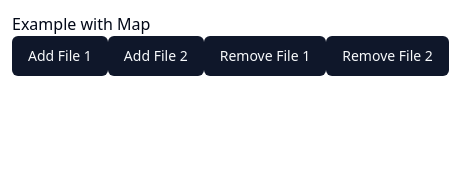
Test: Input › should add a item
Step 1. Click the button "Add File 1" → [60, 56], box [12,36,108,76]
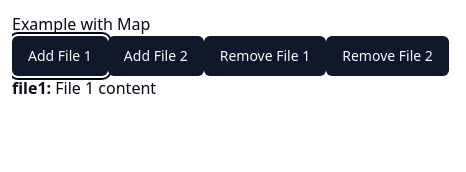
Result: the list item is shown at [12,77,156,99]
Step 2. Click the button "Remove File 1" → [265, 56], box [204,36,326,76]
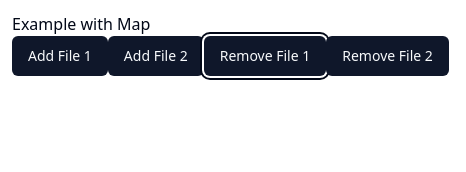
Result: the list item "content" is gone
